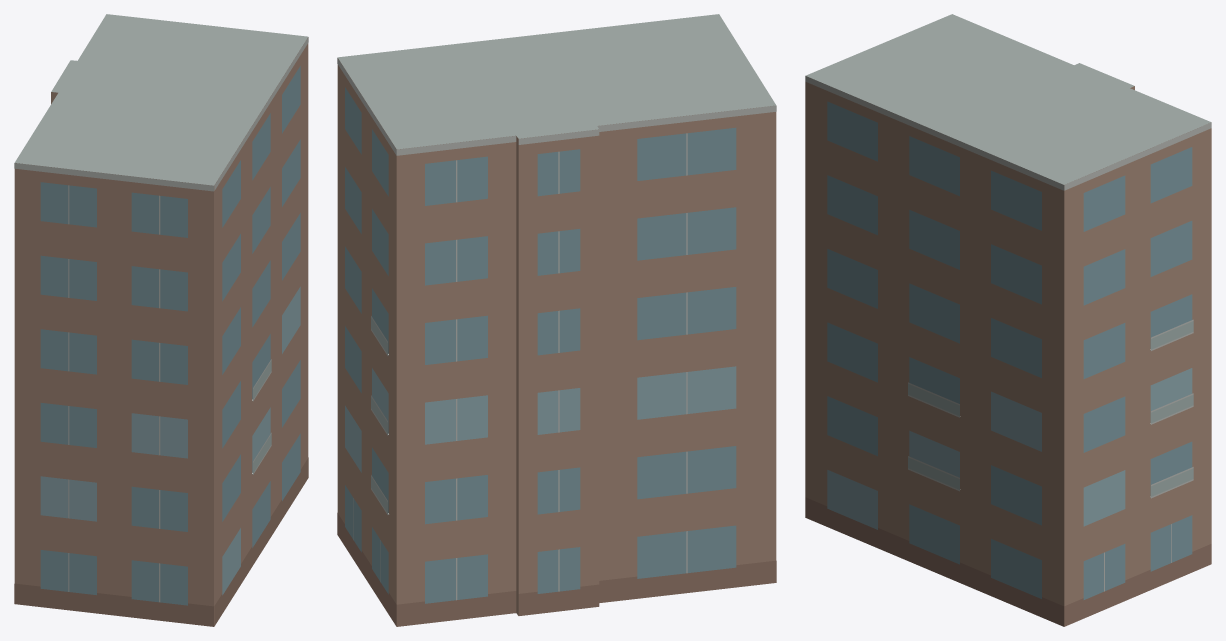
File: survey-upis-32767376.glb
3 renders of one model, left to right at view 1: azimuth 30°, elevation 25°; view 2: azimuth 150°, elevation 25°; view 3: azimuth 270°, elevation 25°, orthographic. The views are drawn at different scales.
Visible parts, largest first — view 1: survey-upis-32767376.tmp; view 2: survey-upis-32767376.tmp; view 3: survey-upis-32767376.tmp.
Boxes of the visible parts, left/top/right/bottom form: survey-upis-32767376.tmp: left=14, top=14, right=308, bottom=626; survey-upis-32767376.tmp: left=337, top=14, right=776, bottom=626; survey-upis-32767376.tmp: left=805, top=14, right=1211, bottom=626.
Size of the model in its own units: 15.28 by 18.4 by 15.34.
